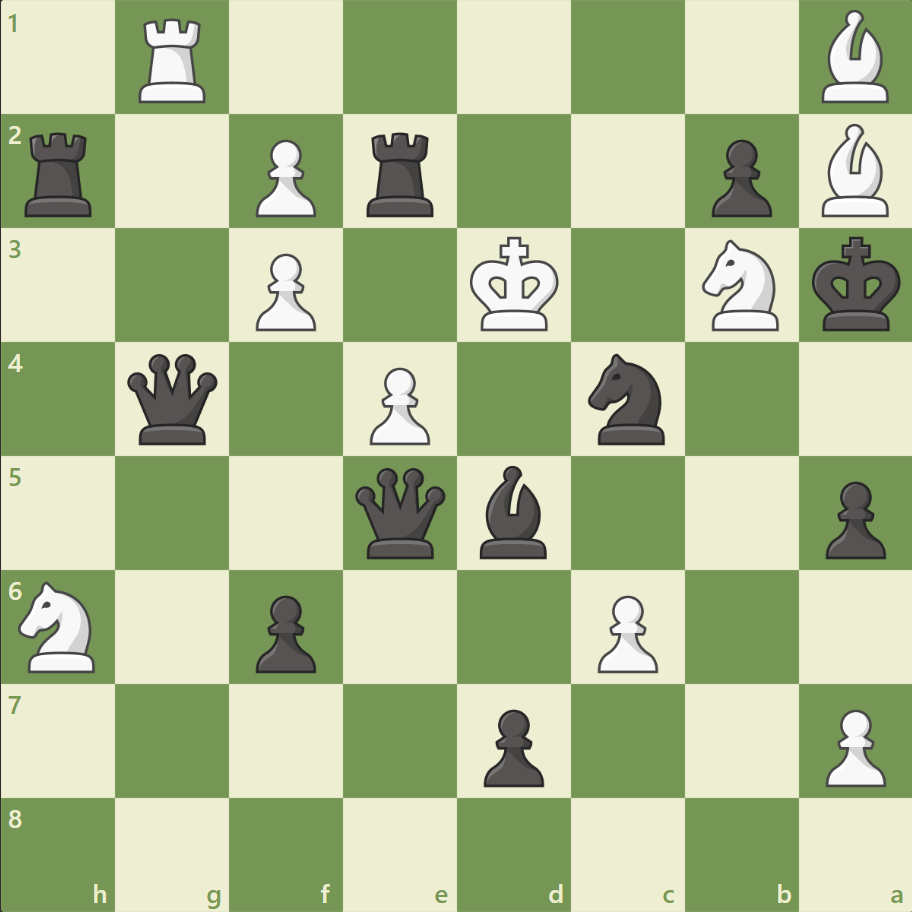B: (812, 6, 896, 109), (812, 120, 896, 222)
K: (465, 231, 565, 339)
N: (692, 234, 789, 337), (11, 575, 108, 677)
P: (247, 246, 322, 337), (247, 132, 322, 223), (815, 700, 889, 791), (588, 586, 662, 677), (361, 359, 435, 450)
R: (133, 12, 215, 109)
b: (471, 460, 555, 563)
k: (806, 231, 906, 339)
n: (579, 348, 676, 450)
p: (474, 700, 549, 791), (247, 586, 322, 677), (701, 132, 776, 223), (815, 473, 889, 564)
q: (124, 349, 223, 449), (351, 463, 450, 562)
r: (19, 125, 102, 222), (360, 125, 442, 222)
